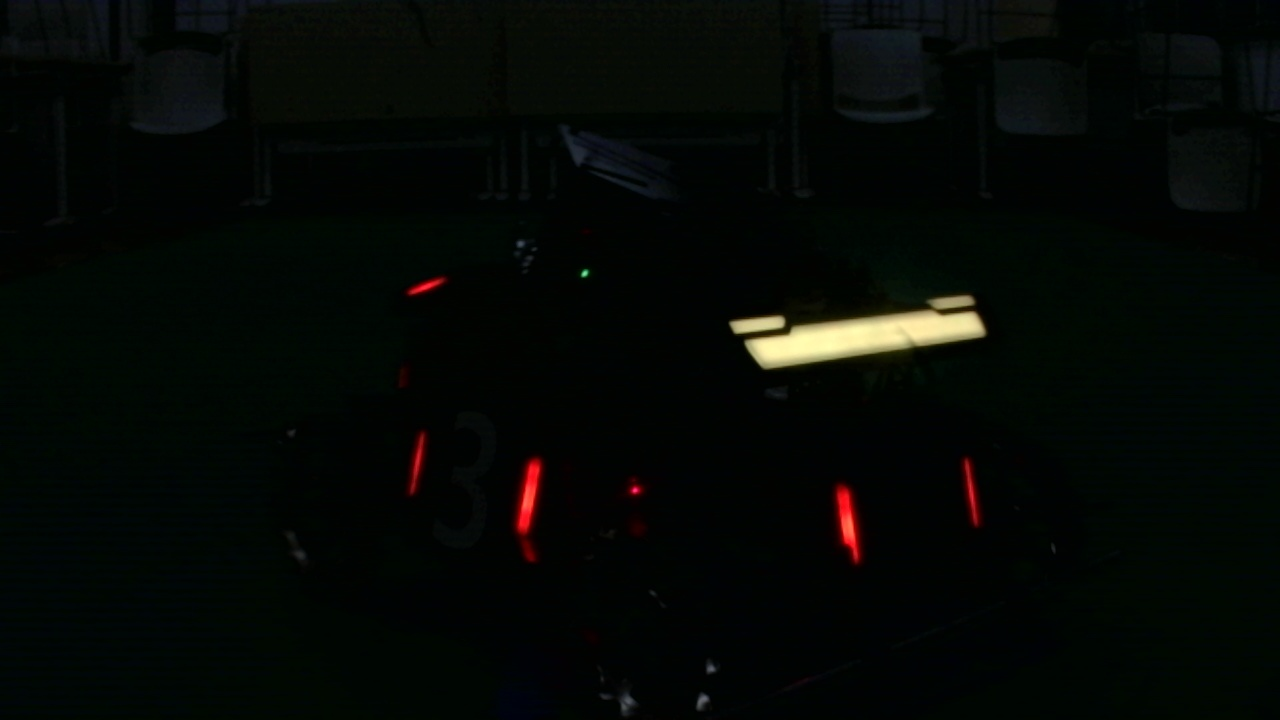lamp: (833, 481, 860, 560), (519, 454, 540, 541), (961, 454, 979, 529)
notpair1: (516, 454, 860, 567)
pair1: (834, 457, 978, 561)
